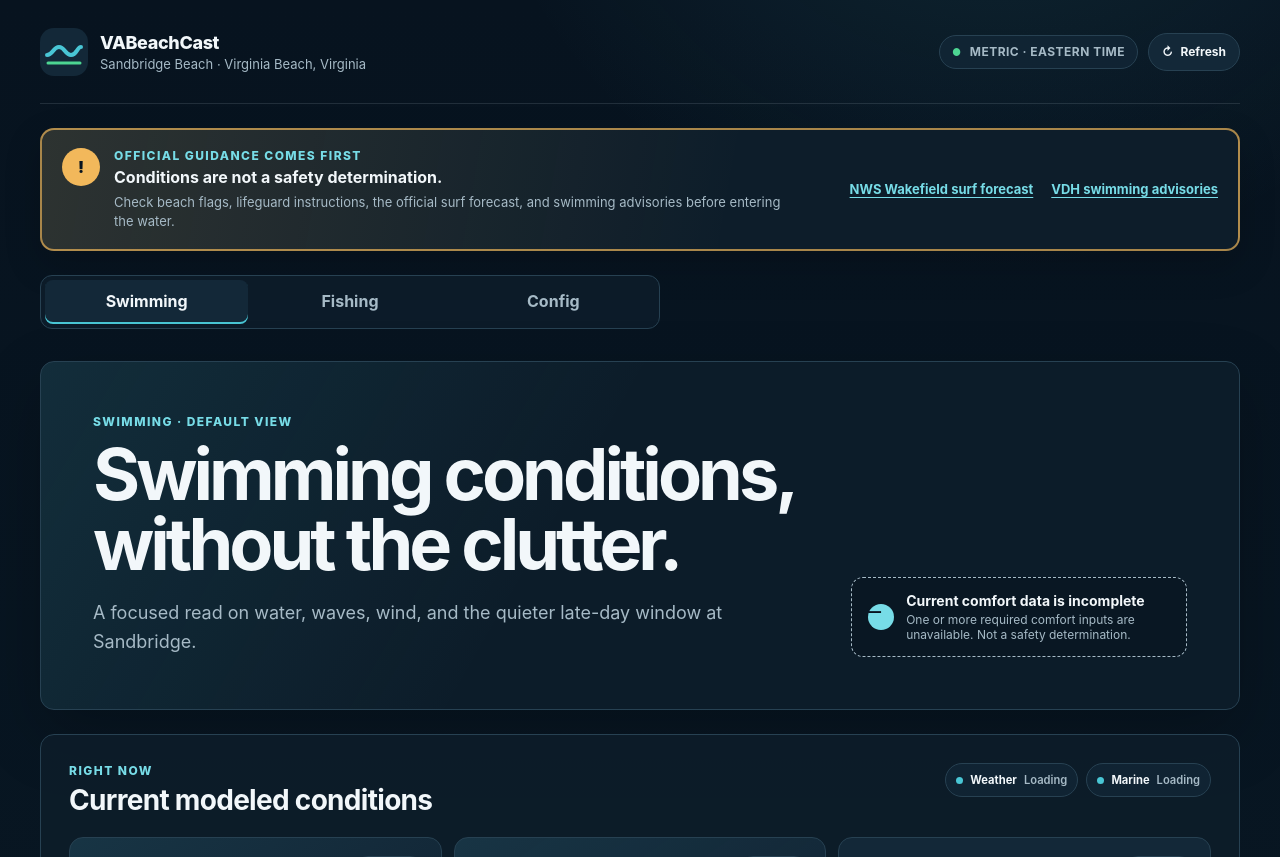
App › navigates to Fishing without a full page reload
Click the link "Fishing": coordinates (350, 301) [322,291,379,311]
(page scrolled)
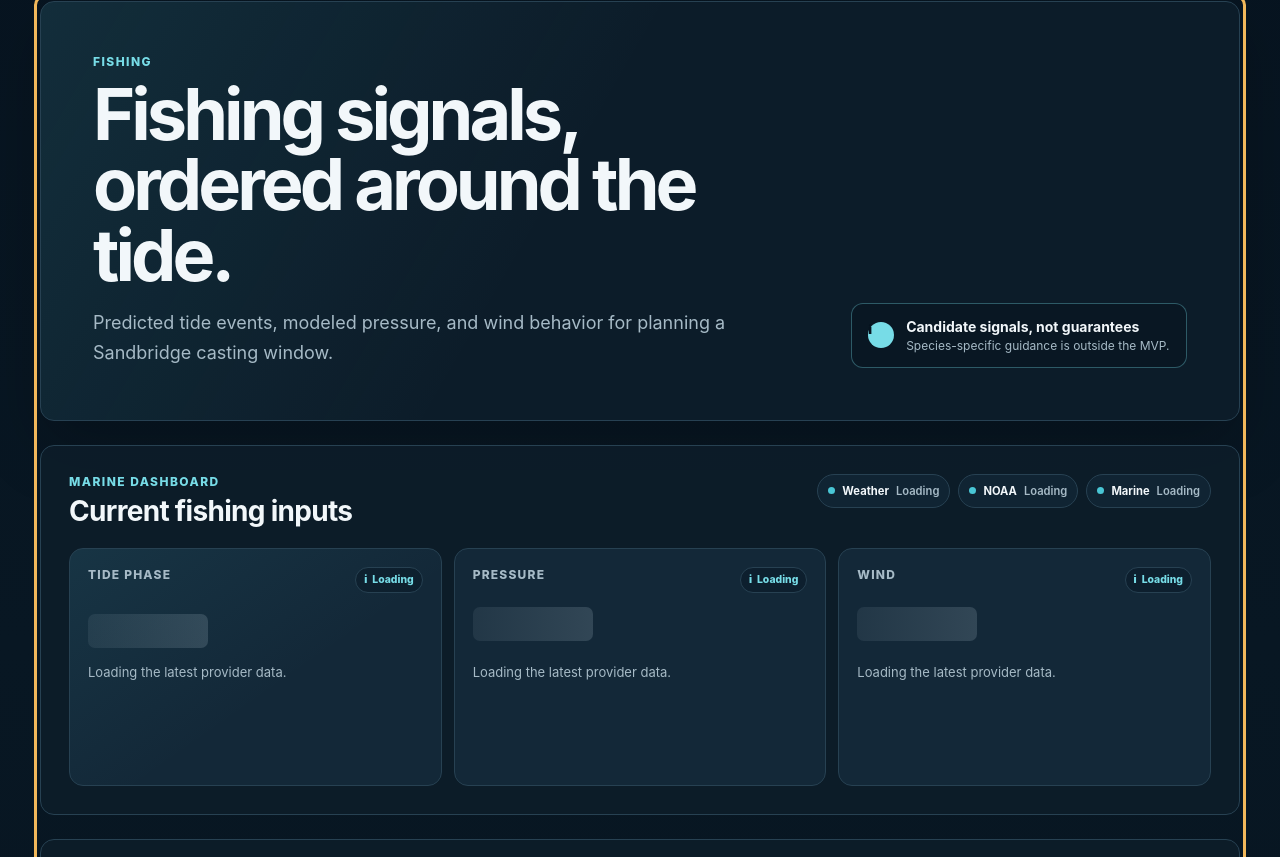
expect the heading "Fishing signals, ordered around the tide." is shown: met, box [93,70,694,298]
